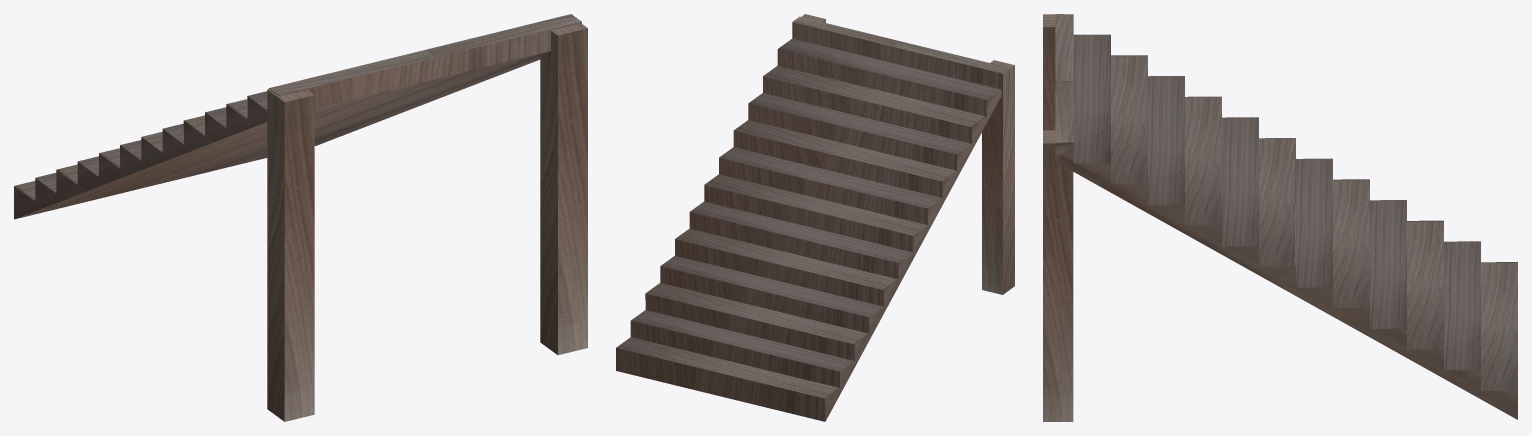
The model's file is SingleStair.fbx.
The picture shows the model from 3 angles, left to right: view 1: azimuth 30°, elevation 25°; view 2: azimuth 150°, elevation 25°; view 3: azimuth 270°, elevation 25°; orthographic projection. The views are drawn at different scales.
Parts seen in each view (by area): view 1: Single stairs; view 2: Single stairs; view 3: Single stairs.
Part boxes in pixels (x1,y1,x2,y2): Single stairs: [14, 14, 587, 421]; Single stairs: [616, 14, 1014, 421]; Single stairs: [1043, 14, 1517, 421].
Size of the model in its own units: 302 by 304 by 468.
